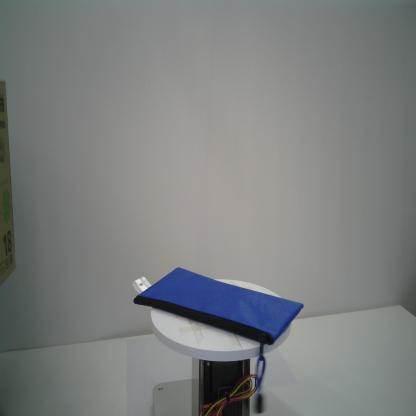Stationery: (129, 265, 304, 412)
